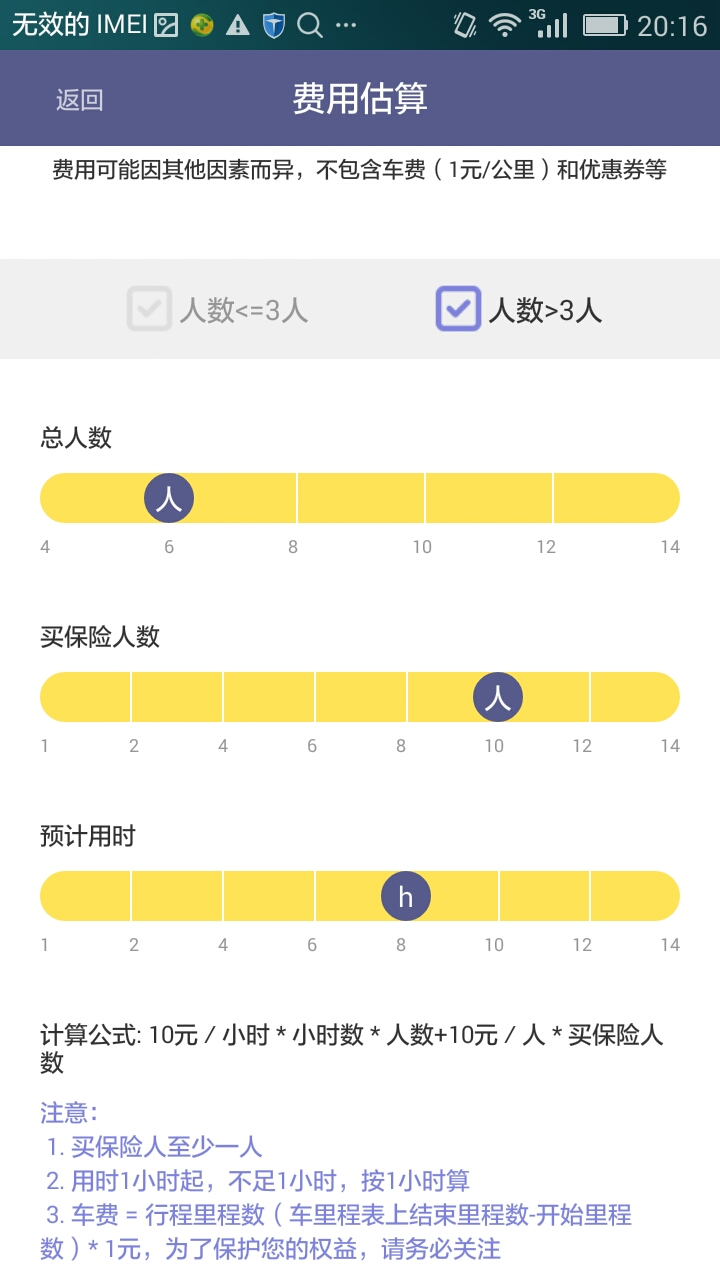checkbox: (428, 269, 620, 342)
imgview: (45, 472, 697, 531)
textview: (20, 1003, 684, 1280)
